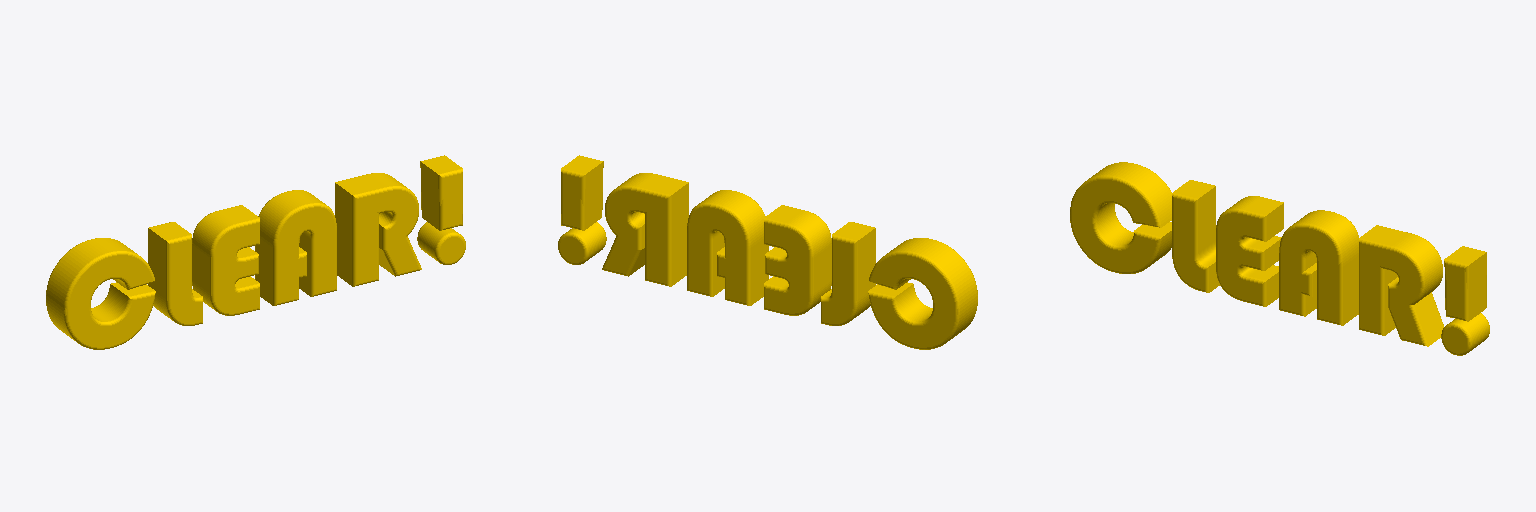
The picture shows the model from 3 angles: view 1: azimuth 30°, elevation 25°; view 2: azimuth 150°, elevation 25°; view 3: azimuth 330°, elevation 25°; orthographic projection.
Visible parts, largest first — view 1: テキスト; view 2: テキスト; view 3: テキスト.
Part boxes in pixels (x1,y1,x2,y2): テキスト: (46,155,465,349); テキスト: (558,155,977,349); テキスト: (1070,162,1489,355).
Size of the model in its own units: 2.67 by 0.609 by 0.24.
1 materials, 1 textured.